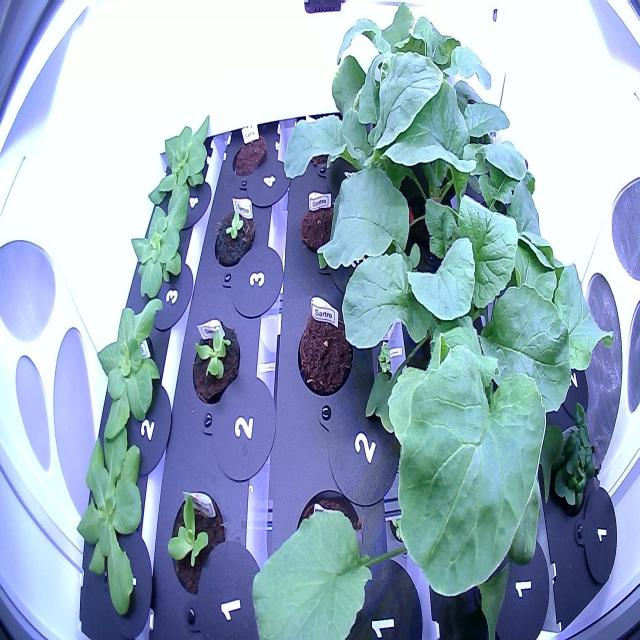pod: (292, 292, 362, 408), (297, 189, 343, 262), (228, 126, 269, 180)
young: (66, 415, 166, 625), (88, 290, 169, 447), (125, 188, 201, 308), (162, 482, 229, 604), (145, 107, 217, 211), (188, 309, 244, 411), (205, 188, 264, 277)
